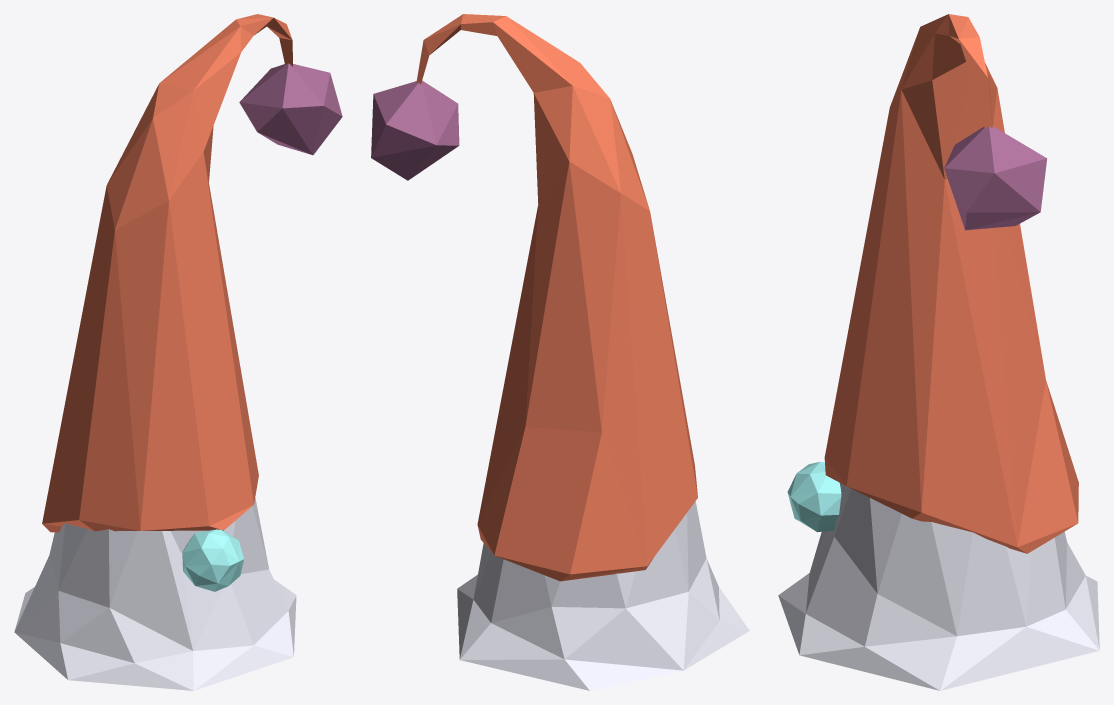
The model's file is Gnome1.fbx.
3 views of the same model, side by side, from view 1: azimuth 30°, elevation 25°; view 2: azimuth 150°, elevation 25°; view 3: azimuth 270°, elevation 25° (orthographic). The views are drawn at different scales.
Visible parts, largest first — view 1: Circle.001, Circle, Sphere, Sphere.001; view 2: Circle.001, Circle, Sphere; view 3: Circle.001, Circle, Sphere, Sphere.001.
Part boxes in pixels (x1,y1,x2,y2): Circle.001: (42,14,292,532); Circle: (14,498,296,690); Sphere: (239,63,342,155); Sphere.001: (182,529,243,591); Circle.001: (416,14,697,581); Circle: (457,501,749,690); Sphere: (371,80,459,180); Circle.001: (824,14,1078,553); Circle: (778,483,1099,690); Sphere: (944,126,1047,230); Sphere.001: (787,461,841,532).
Size of the model in its own units: 305 by 533 by 240.
